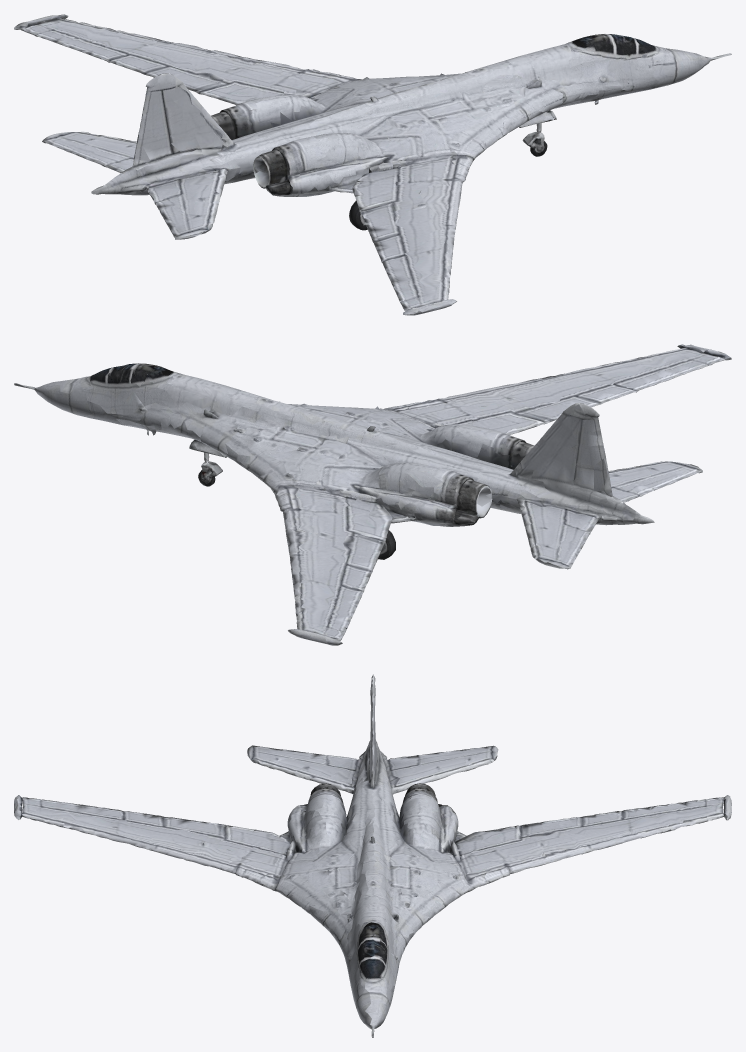
The model's file is fh_plane_kit2_meshy.glb.
The picture shows the model from 3 angles, top to bottom: view 1: azimuth 30°, elevation 25°; view 2: azimuth 150°, elevation 25°; view 3: azimuth 270°, elevation 25°; orthographic projection. The views are drawn at different scales.
Parts seen in each view (by area): view 1: GLTF; view 2: GLTF; view 3: GLTF.
Boxes of the visible parts, x1=… form: GLTF: x1=14, y1=14, x2=731, y2=315; GLTF: x1=14, y1=344, x2=731, y2=645; GLTF: x1=14, y1=674, x2=731, y2=1037.
Bounding box in the file's own units: 1 × 0.2588 × 1.07.
1 material, 1 textured.
